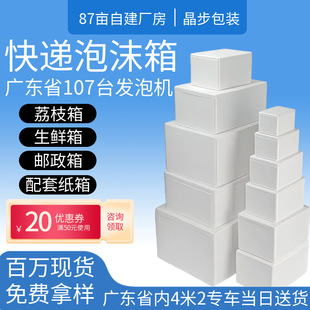泡沫箱: (155, 49, 310, 284)
